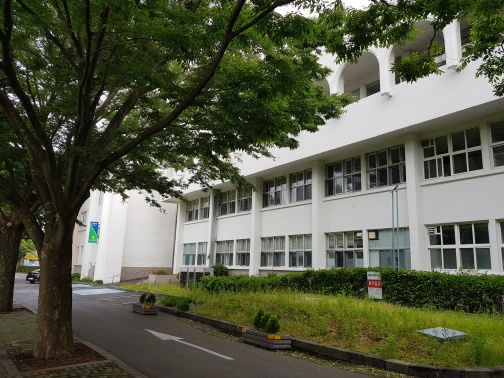Main Building of University: (73, 73, 503, 315)
